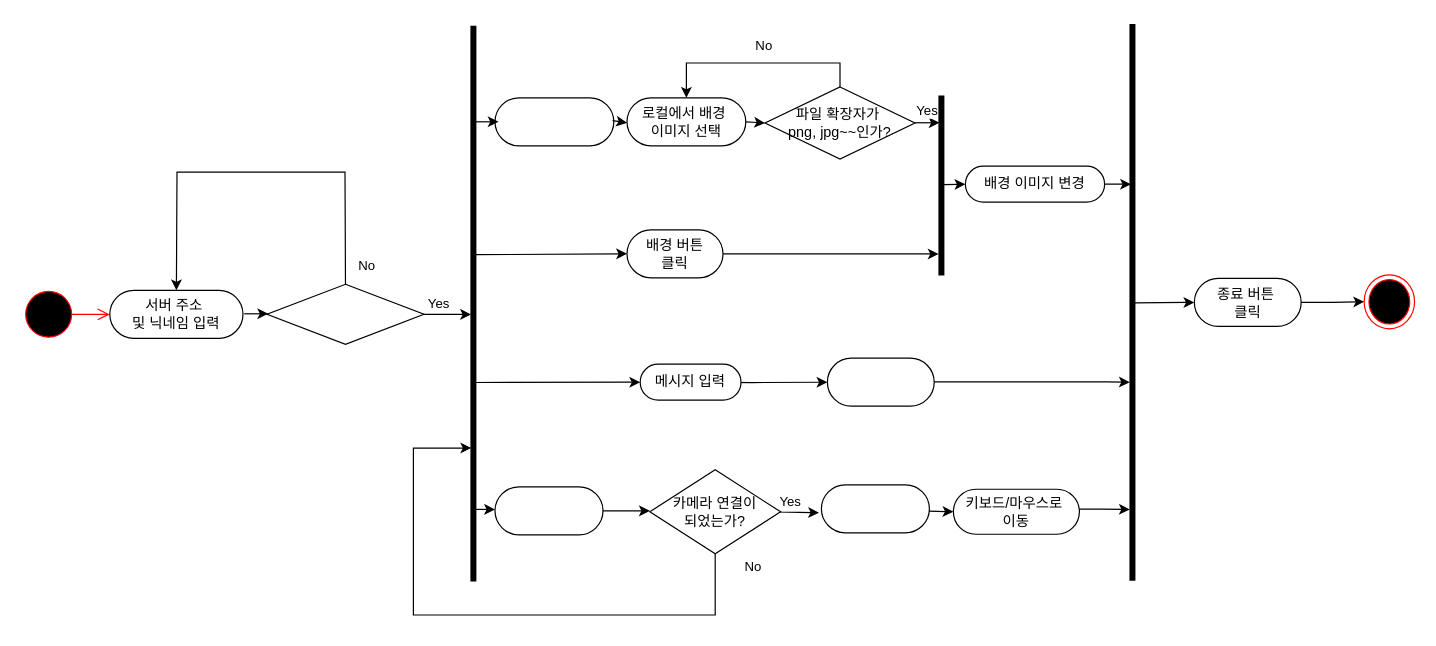
The diagram is 1436 pixels wide and 646 high, and some of its shapes have lost their labels. Here are the shapes that lost their labels. From the top down, the centre of each, then its label:
[554,121]: 배경 추가 버튼 클릭
[345,313]: 서버 주소가 유효한가?
[880,381]: 화면에 출력 및 전송
[548,510]: 카메라 버튼 클릭
[874,508]: 실시간 영상 출력
